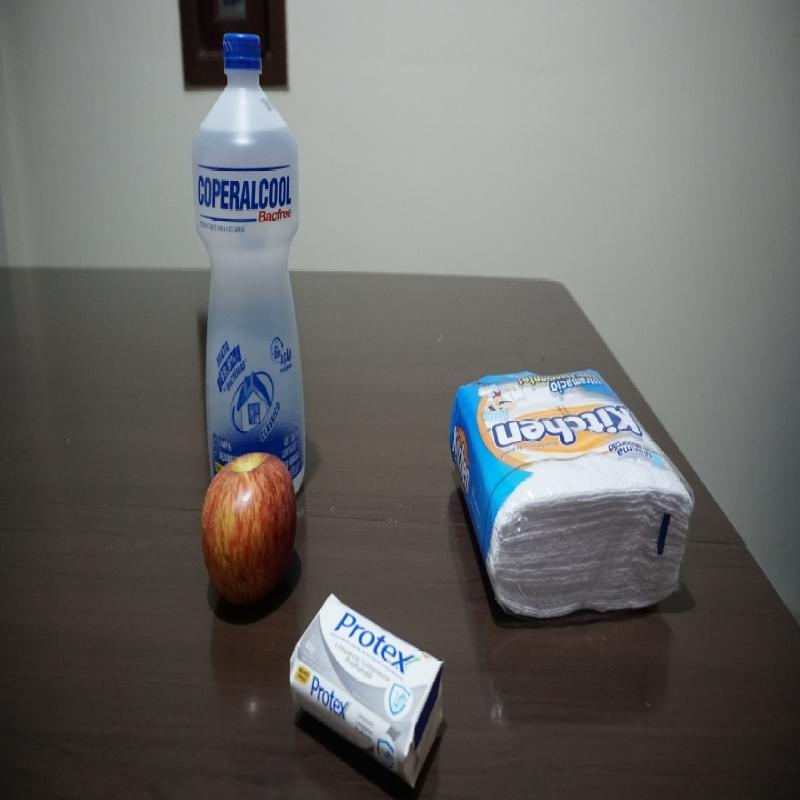Alcohol Bottle: (189, 29, 314, 481)
Apple: (191, 448, 300, 612)
Napkin: (445, 369, 700, 610)
Soap: (290, 593, 448, 780)
